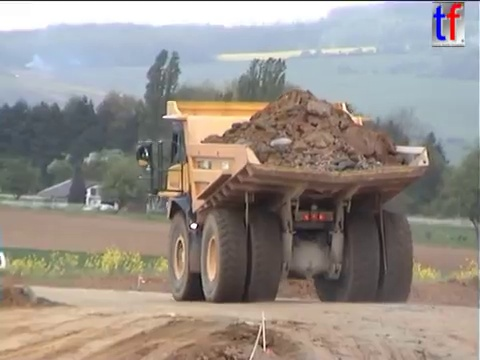truck: (133, 97, 432, 306)
